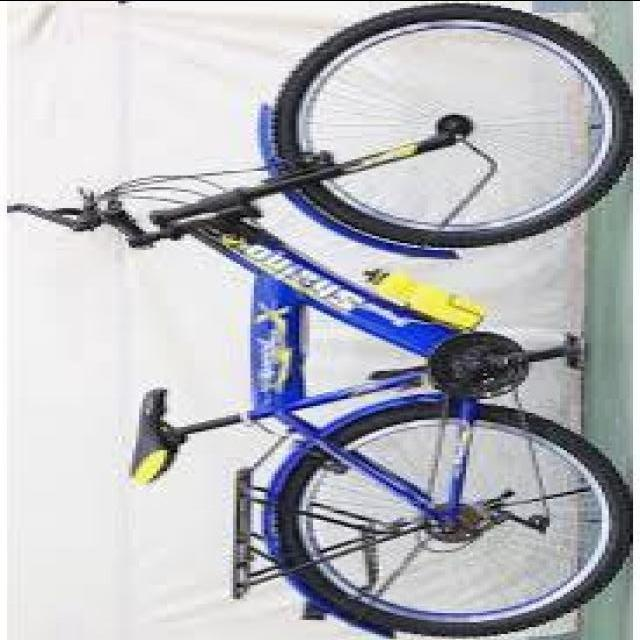bicycle: (11, 2, 633, 632)
